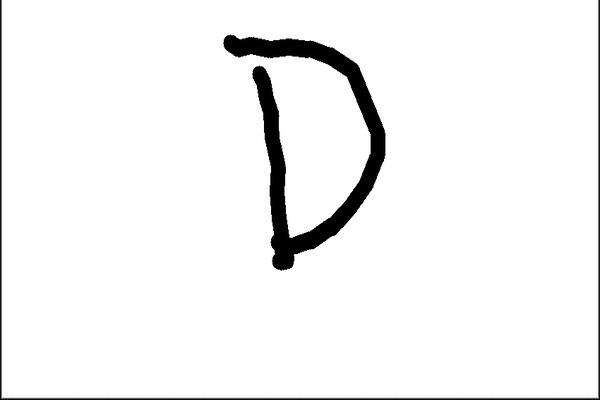D: (219, 29, 392, 274)
